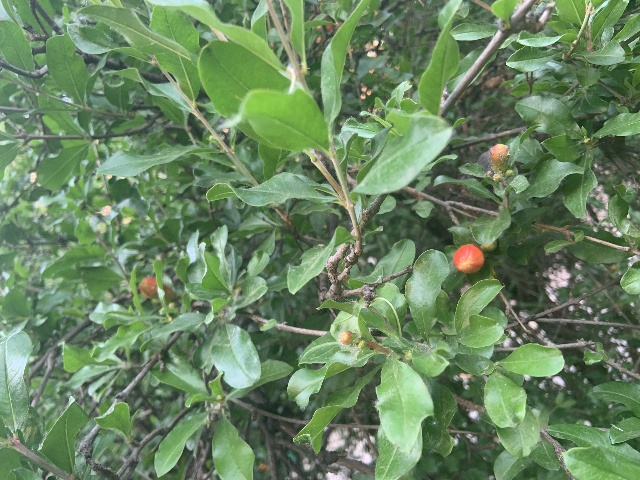bud: (453, 244, 484, 273), (138, 277, 175, 301), (490, 143, 509, 172), (339, 330, 354, 345)
